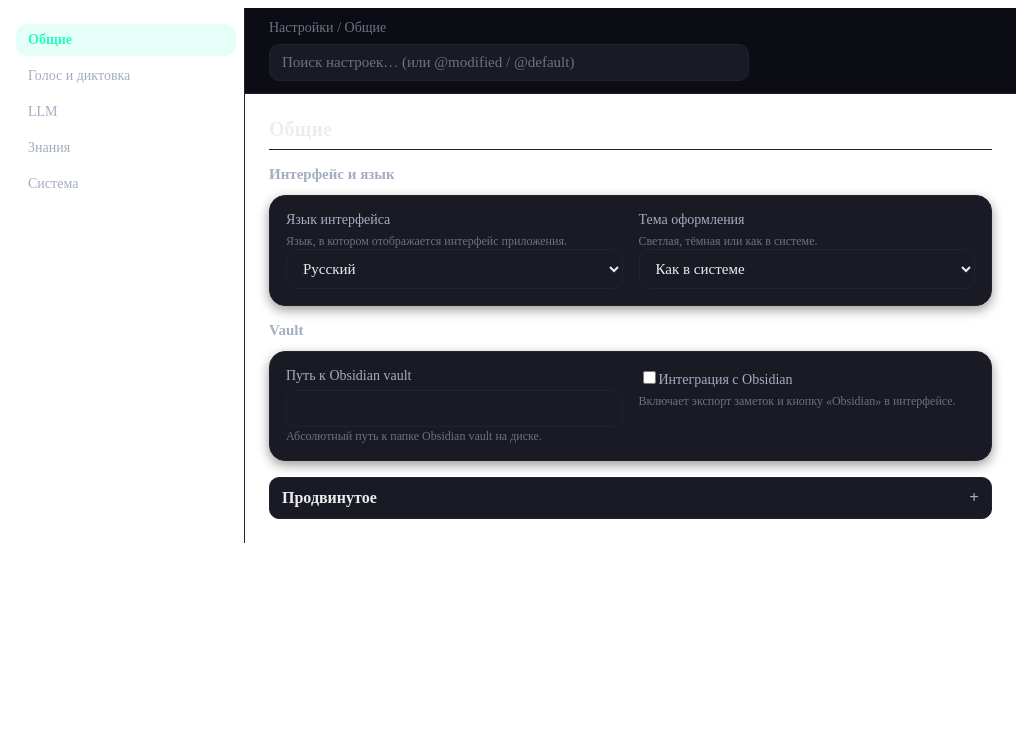
Test: Settings — store-driven › System category renders links to Models, Backups, Routines
The width and height of the screenshot is (1024, 750).
Click the button with test id "settings-sidebar-system". click: (126, 184)
box: [16,168,236,200]
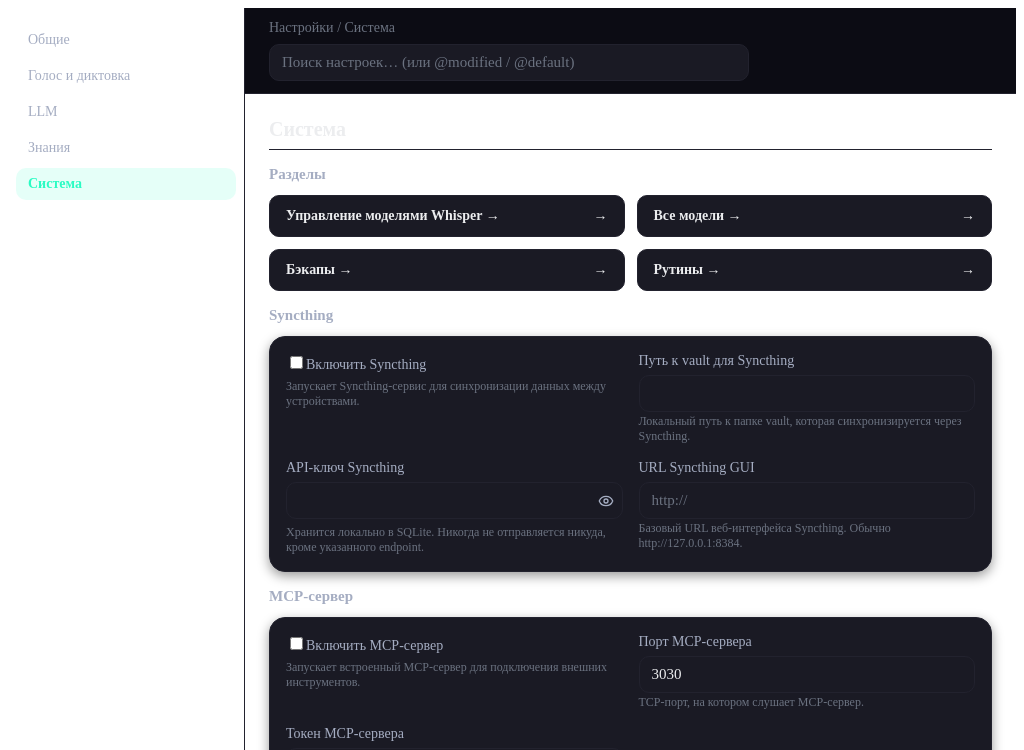
Check: the element with test id "settings-system-links" is shown, box [269,195,992,291]
Check: the link with test id "settings-system-link-backups" is shown, box [269,249,624,291]
Check: the link with test id "settings-system-link-routines" is shown, box [636,249,992,291]
